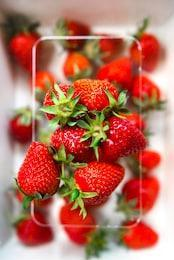Fresa: (62, 157, 127, 210), (14, 138, 62, 202), (70, 71, 124, 121), (99, 113, 151, 162), (48, 118, 99, 167), (41, 78, 88, 125)
